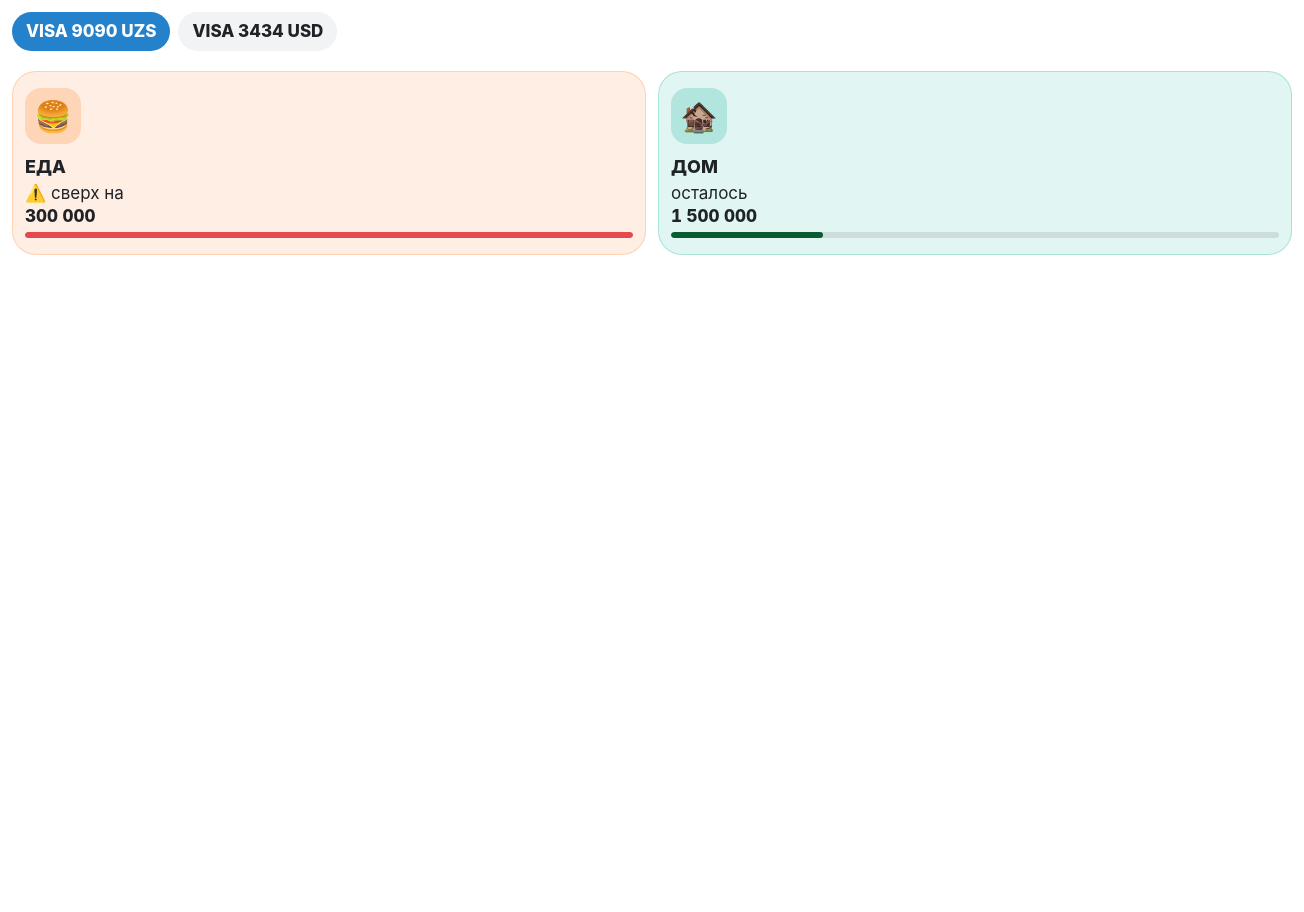
Test: EntryScreen › keeps the expense on the phone when there is no connection
The image size is (1304, 912).
Click the button "🍔 ЕДА ⚠️ сверх на 300 000": {"x": 53, "y": 116} [12,71,646,255]
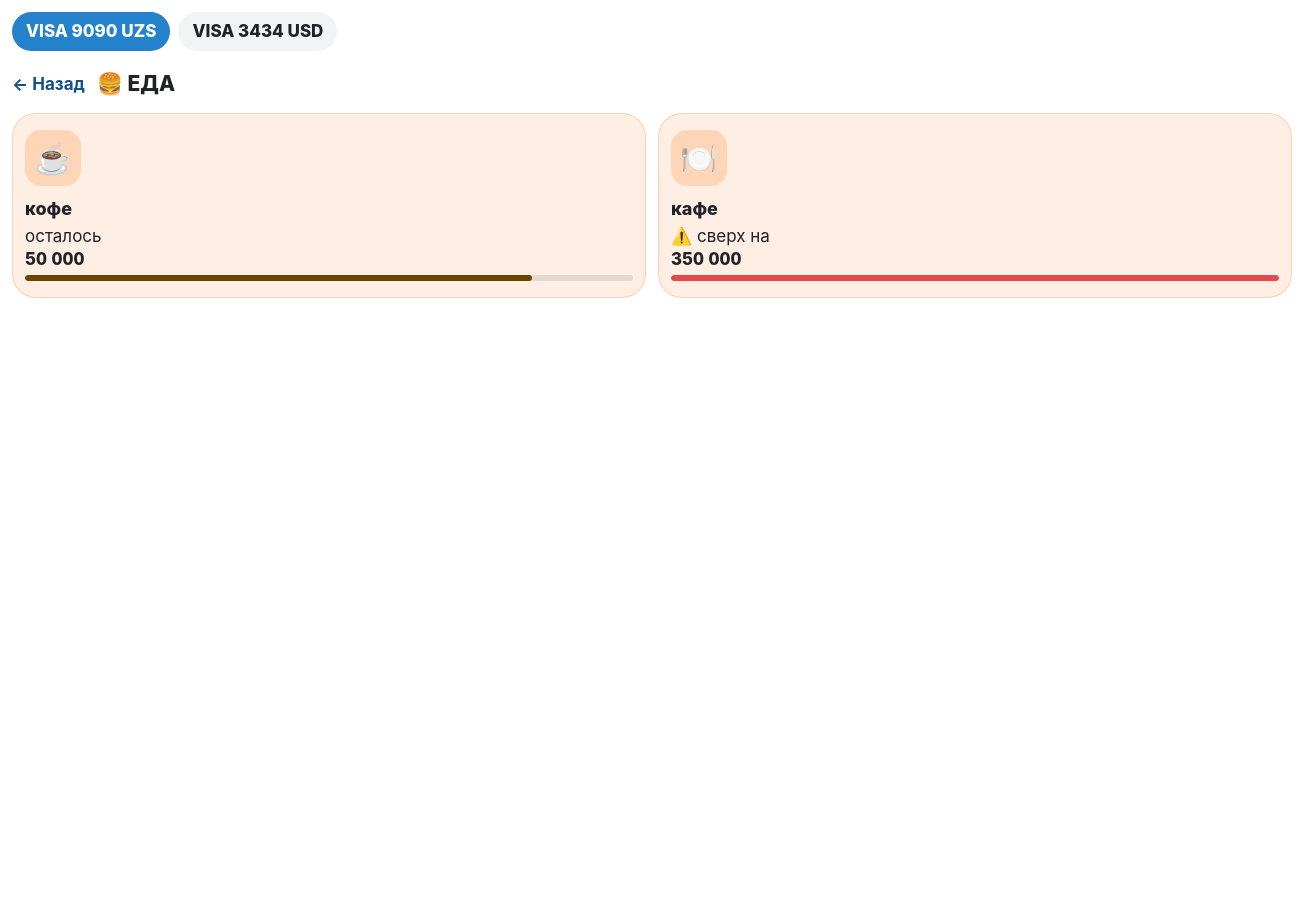
Click the button "☕ кофе осталось 50 000": {"x": 53, "y": 158} [12,113,646,298]
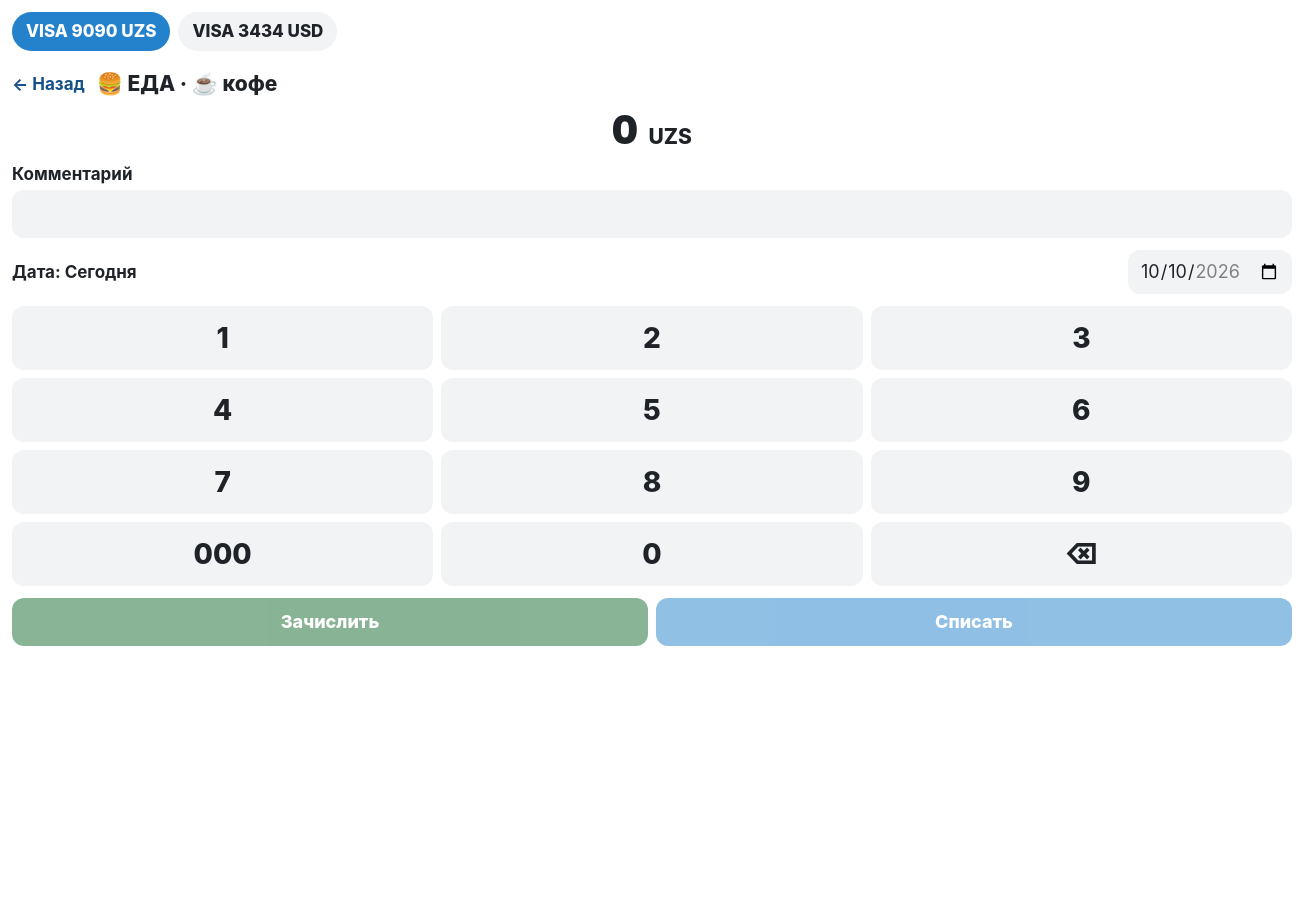
Click the button "4": {"x": 223, "y": 410} [12,378,433,442]
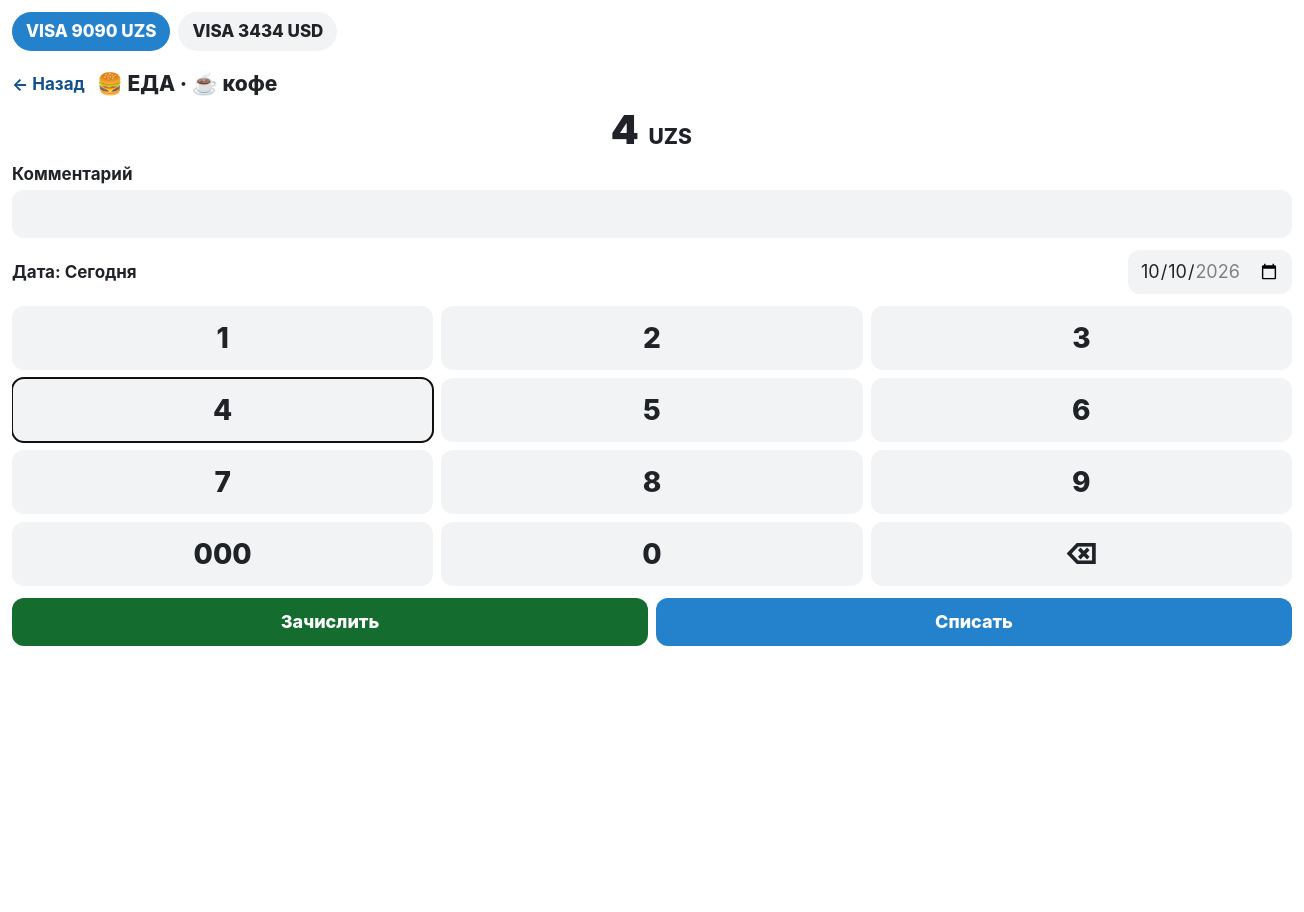
Click the button "8": {"x": 652, "y": 482} [441,450,863,514]
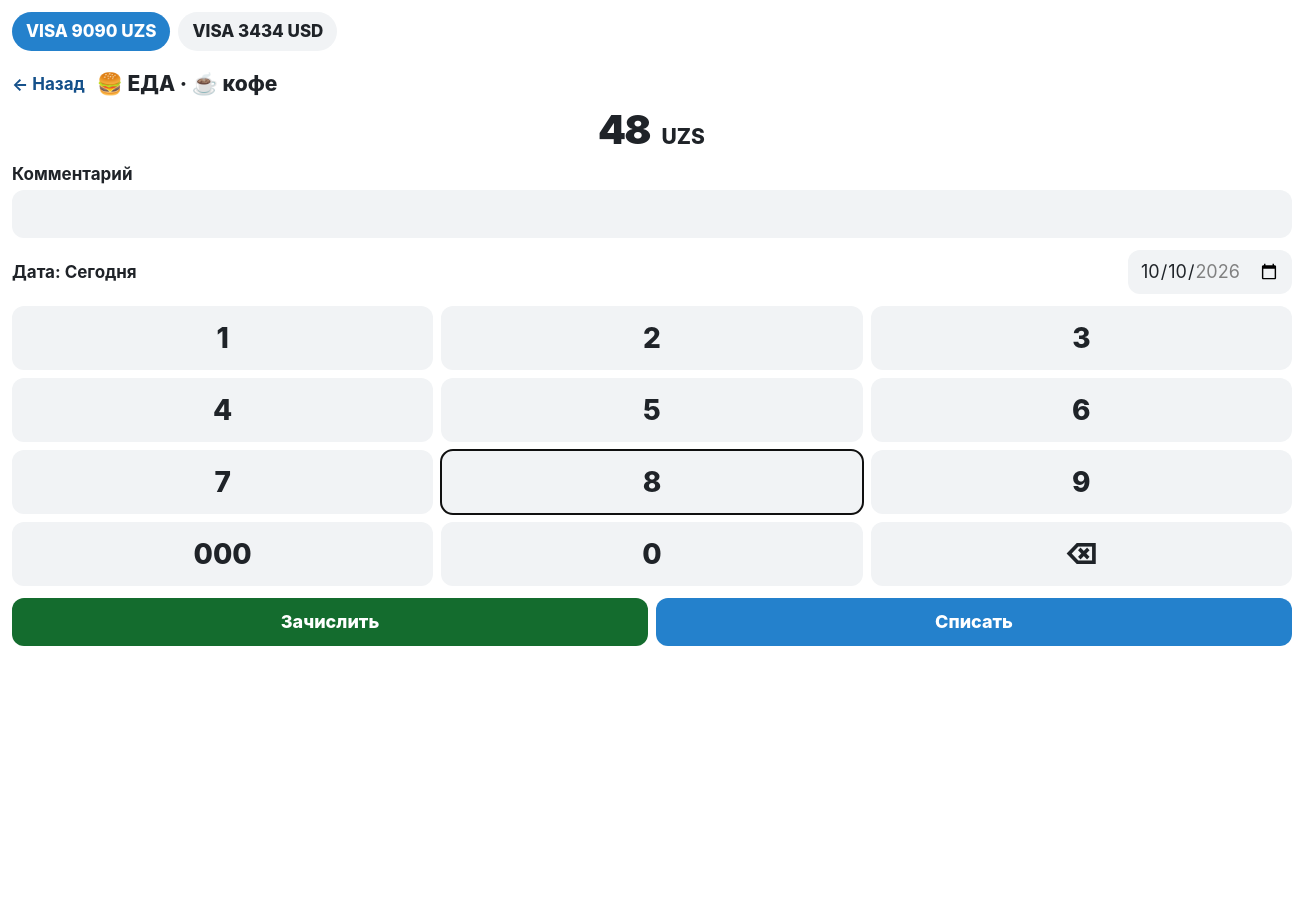
Click the button "000": {"x": 223, "y": 554} [12,522,433,586]
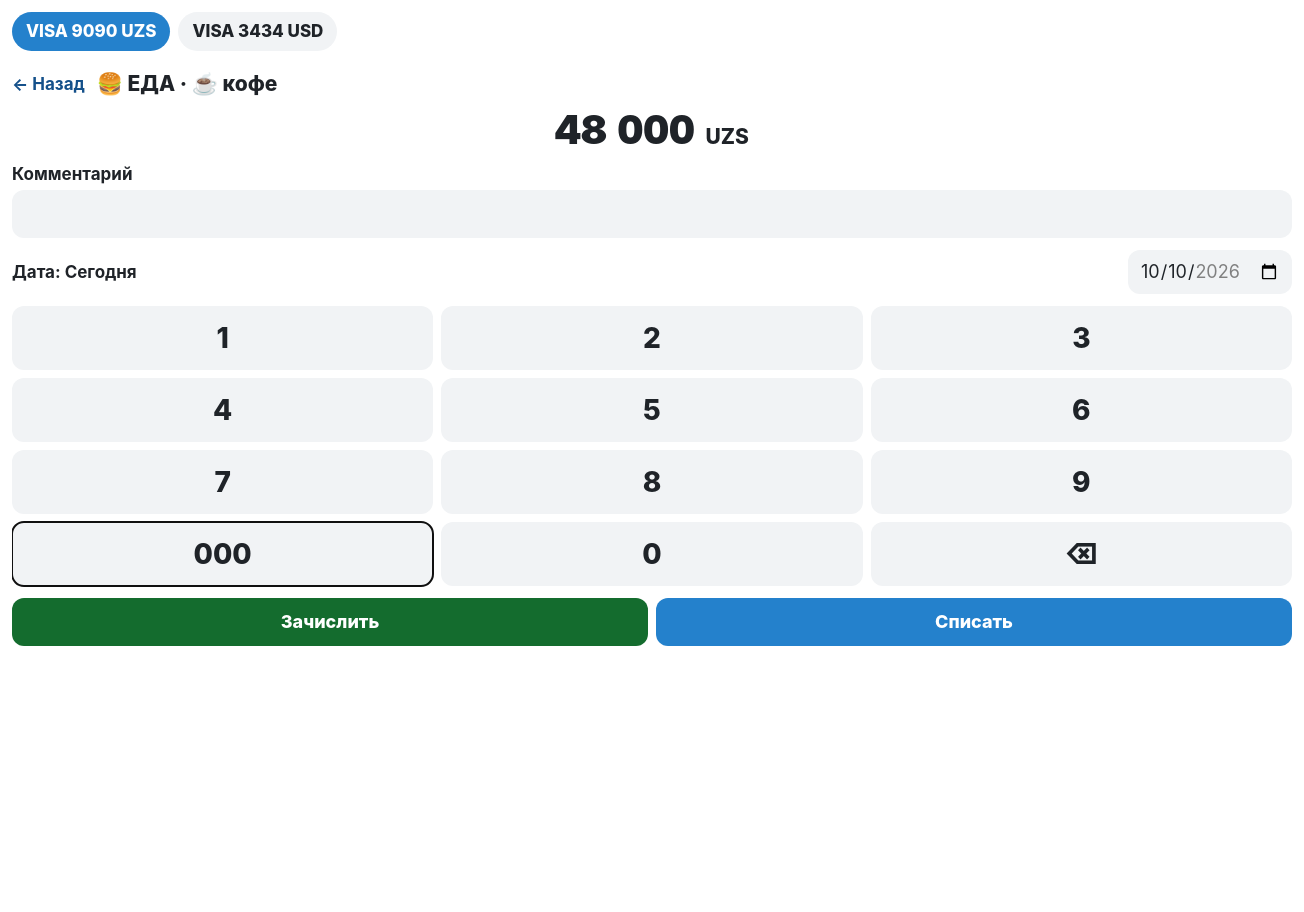
Click the button "Списать": {"x": 974, "y": 622} [656,598,1292,646]
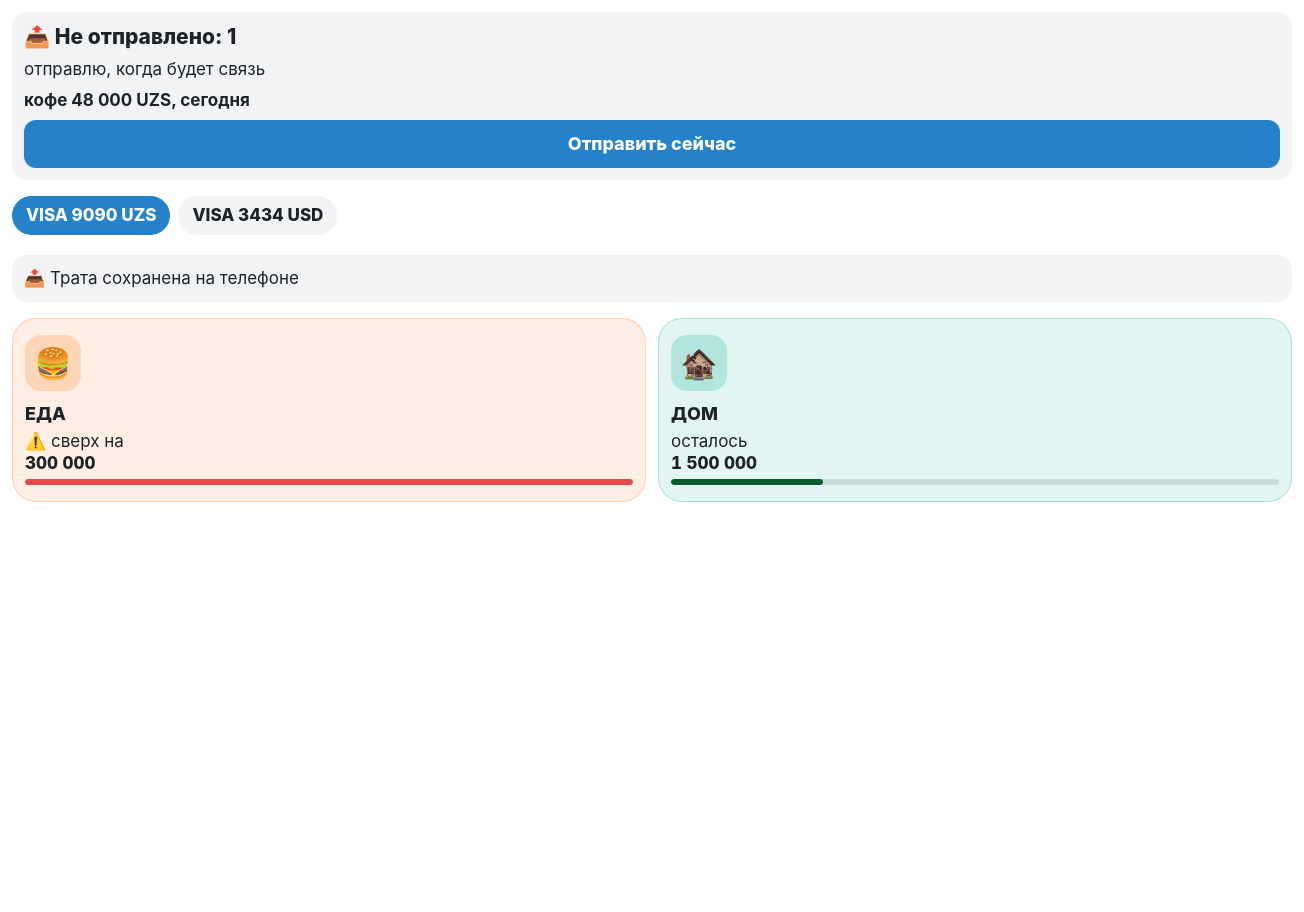
Now the text "📤 Трата сохранена на телефоне" is shown, box [12,255,1292,302]
Now the element "Не отправлено" shows "📤 Не отправлено: 1", box [24,24,236,49]
Now the element "Не отправлено" shows "кофе 48 000 UZS, сегодня", box [24,90,250,110]
